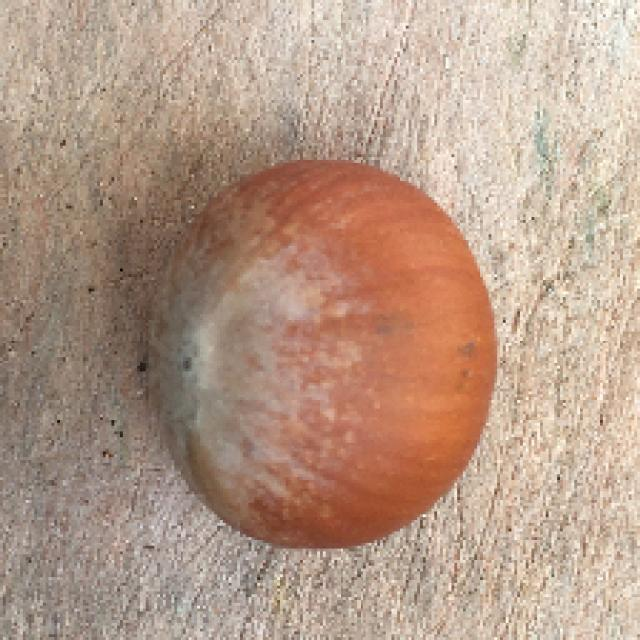qualityHazelnut: (147, 157, 510, 552)
